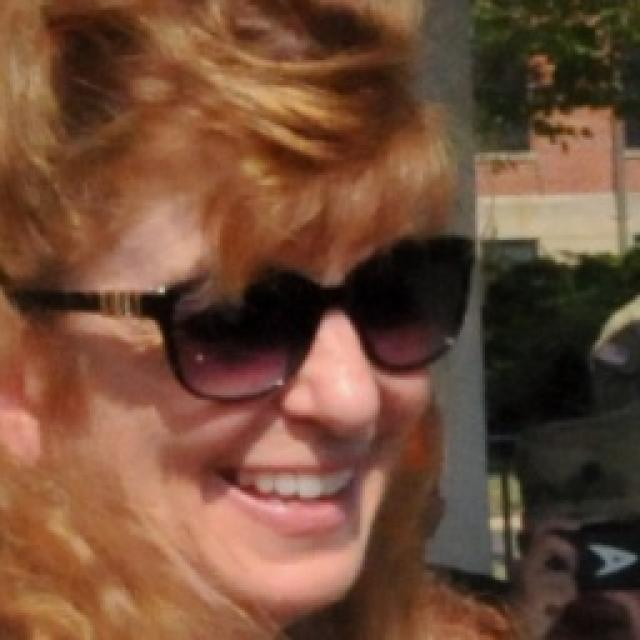glasses: (6, 231, 497, 413)
